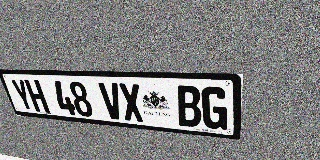4: (51, 81, 77, 116)
8: (68, 81, 94, 117)
B: (176, 85, 202, 128)
G: (201, 86, 228, 130)
H: (24, 80, 50, 113)
V: (98, 82, 125, 120)
X: (118, 83, 144, 122)
Y: (10, 79, 36, 112)
